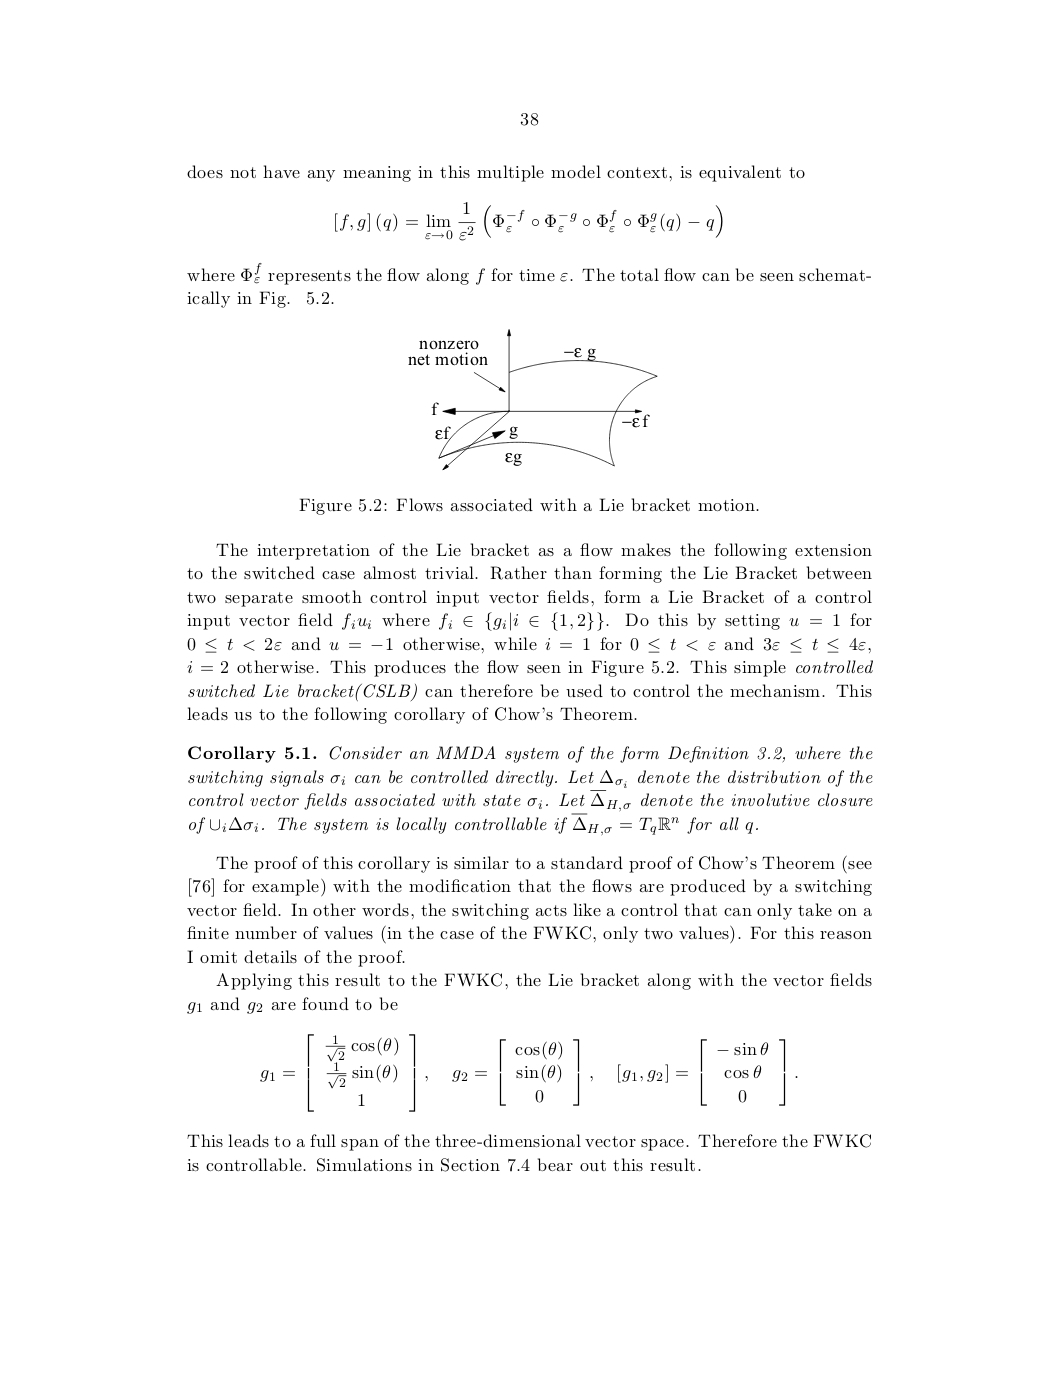figure: (408, 328, 658, 471)
formula: (260, 1032, 797, 1112), (335, 201, 722, 241)
